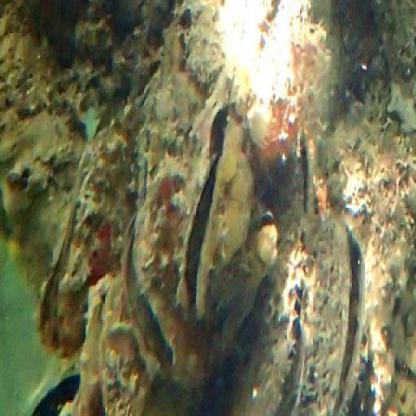Oyster- Indeterminate: (311, 219, 369, 416)
Oyster-Closed: (37, 133, 140, 357), (62, 273, 116, 416), (100, 271, 152, 416)
Oyster-Open: (127, 158, 279, 396), (181, 112, 256, 325), (197, 282, 309, 416), (19, 366, 81, 416)
